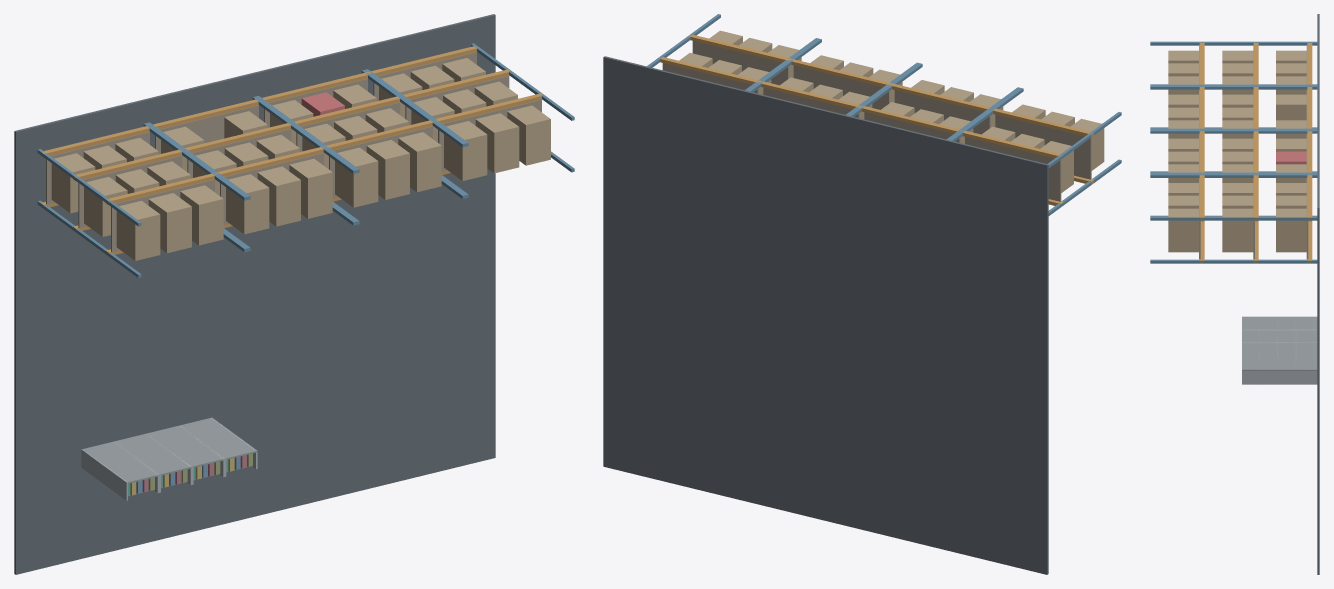
The picture shows the model from 3 angles, left to right: view 1: azimuth 30°, elevation 25°; view 2: azimuth 150°, elevation 25°; view 3: azimuth 270°, elevation 25°; orthographic projection. The views are drawn at different scales.
Visible parts, largest first — view 1: floor, bay-B-01-carton-2-0, bay-B-03-carton-2-0, bay-B-02-carton-2-0, bay-B-04-carton-2-0, bay-B-04-carton-2-1, bay-B-04-carton-2-2, bay-B-02-carton-2-1, bay-B-01-carton-2-2, bay-B-02-carton-2-2, bay-B-01-carton-2-1, bay-B-03-carton-2-2 (+40 smaller); view 2: floor, bay-B-01-deck-2, bay-B-03-deck-2, bay-B-04-deck-2, bay-B-02-deck-2, bay-B-01-deck-1, bay-B-01-carton-2-0, bay-B-02-deck-1, bay-B-03-deck-1, bay-B-04-deck-1, bay-B-01-carton-1-0, bay-B-04-beam-2-9.12 (+7 smaller); view 3: floor, bay-B-04-carton-1-2, bay-B-04-carton-0-2, bay-B-04-carton-2-2, aisle-A-shelf-4-upright-3.965, aisle-A-shelf-4-back, aisle-A-shelf-3-back, aisle-A-shelf-1-back, aisle-A-shelf-2-back, bay-B-02-carton-0-0, bay-B-04-upright-9.93-8.0, bay-B-01-upright-0.0-9.129999999999999 (+50 smaller).
Part boxes in pixels (box(x1,y1,x2,y2)): floor: box(14, 14, 495, 574); bay-B-01-carton-2-0: box(116, 201, 160, 260); bay-B-03-carton-2-0: box(335, 147, 378, 207); bay-B-02-carton-2-0: box(226, 174, 269, 234); bay-B-04-carton-2-0: box(444, 121, 487, 180); bay-B-04-carton-2-1: box(475, 113, 519, 173); bay-B-04-carton-2-2: box(507, 105, 550, 165); bay-B-02-carton-2-1: box(257, 166, 300, 226); bay-B-01-carton-2-2: box(180, 185, 223, 245); bay-B-02-carton-2-2: box(289, 158, 332, 218); bay-B-01-carton-2-1: box(148, 193, 191, 253); bay-B-03-carton-2-2: box(398, 132, 441, 192); floor: box(603, 56, 1048, 574); bay-B-01-deck-2: box(995, 114, 1091, 179); bay-B-03-deck-2: box(793, 65, 889, 109); bay-B-04-deck-2: box(692, 41, 788, 85); bay-B-02-deck-2: box(894, 90, 990, 134); bay-B-01-deck-1: box(965, 137, 1061, 201); bay-B-01-carton-2-0: box(1070, 118, 1104, 170); bay-B-02-deck-1: box(864, 112, 960, 142); bay-B-03-deck-1: box(763, 87, 859, 118); bay-B-04-deck-1: box(662, 63, 758, 93); bay-B-01-carton-1-0: box(1040, 141, 1073, 192); bay-B-04-beam-2-9.12: box(688, 34, 790, 62); floor: box(1317, 14, 1319, 574); bay-B-04-carton-1-2: box(1222, 208, 1253, 252); bay-B-04-carton-0-2: box(1276, 208, 1306, 252); bay-B-04-carton-2-2: box(1168, 208, 1198, 252); aisle-A-shelf-4-upright-3.965: box(1242, 369, 1317, 384); aisle-A-shelf-4-back: box(1242, 356, 1317, 370); aisle-A-shelf-3-back: box(1242, 343, 1317, 356); aisle-A-shelf-1-back: box(1242, 316, 1317, 329); aisle-A-shelf-2-back: box(1242, 330, 1317, 342); bay-B-02-carton-0-0: box(1276, 94, 1306, 120); bay-B-04-upright-9.93-8.0: box(1150, 259, 1317, 263); bay-B-01-upright-0.0-9.129999999999999: box(1150, 41, 1317, 45).
Size of the model in its own units: 11 by 9.7 by 4.06.
